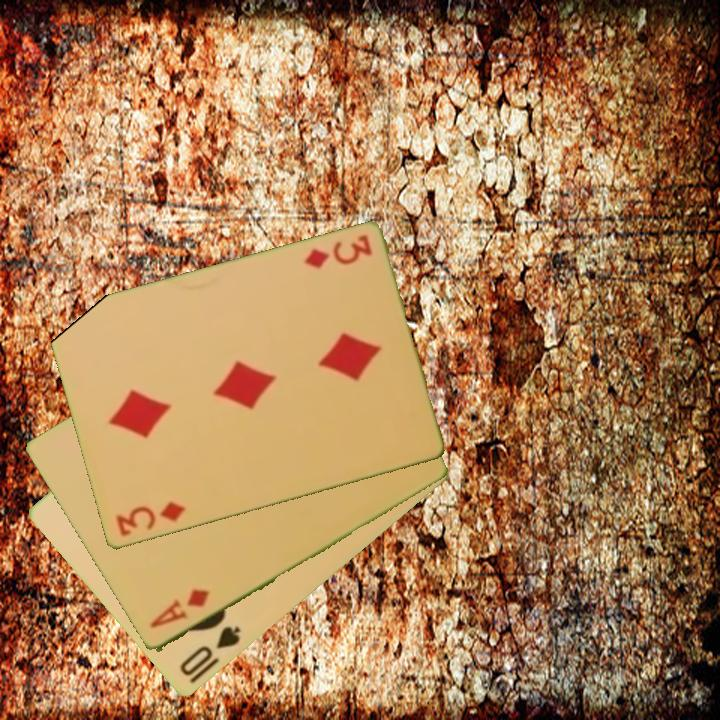10s: (176, 623, 244, 680)
3d: (112, 498, 188, 540), (300, 231, 375, 273)
Ad: (146, 586, 212, 632)
